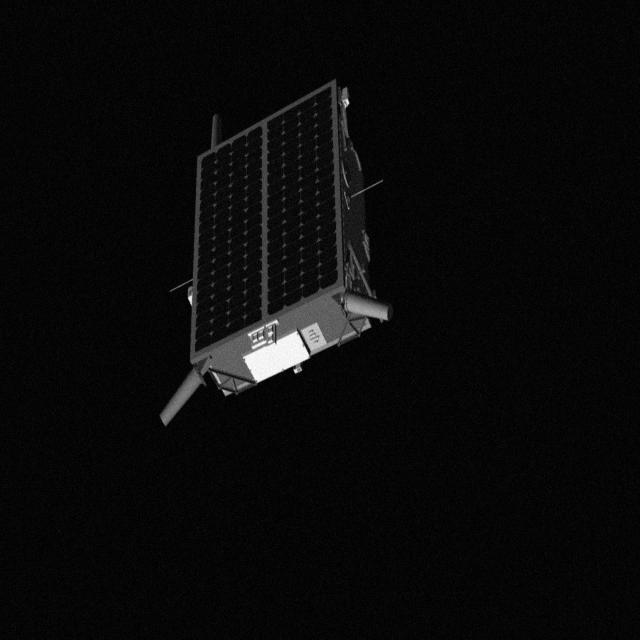satellite: (158, 70, 400, 432)
